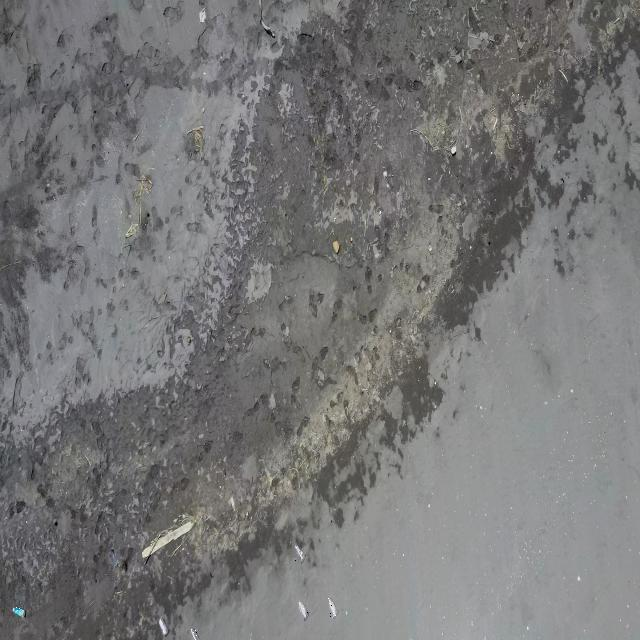plastic-bottle: (12, 606, 26, 618)
takeaway-cup: (294, 544, 306, 564), (159, 618, 169, 638), (328, 598, 338, 618), (298, 602, 308, 620), (190, 628, 200, 640)
